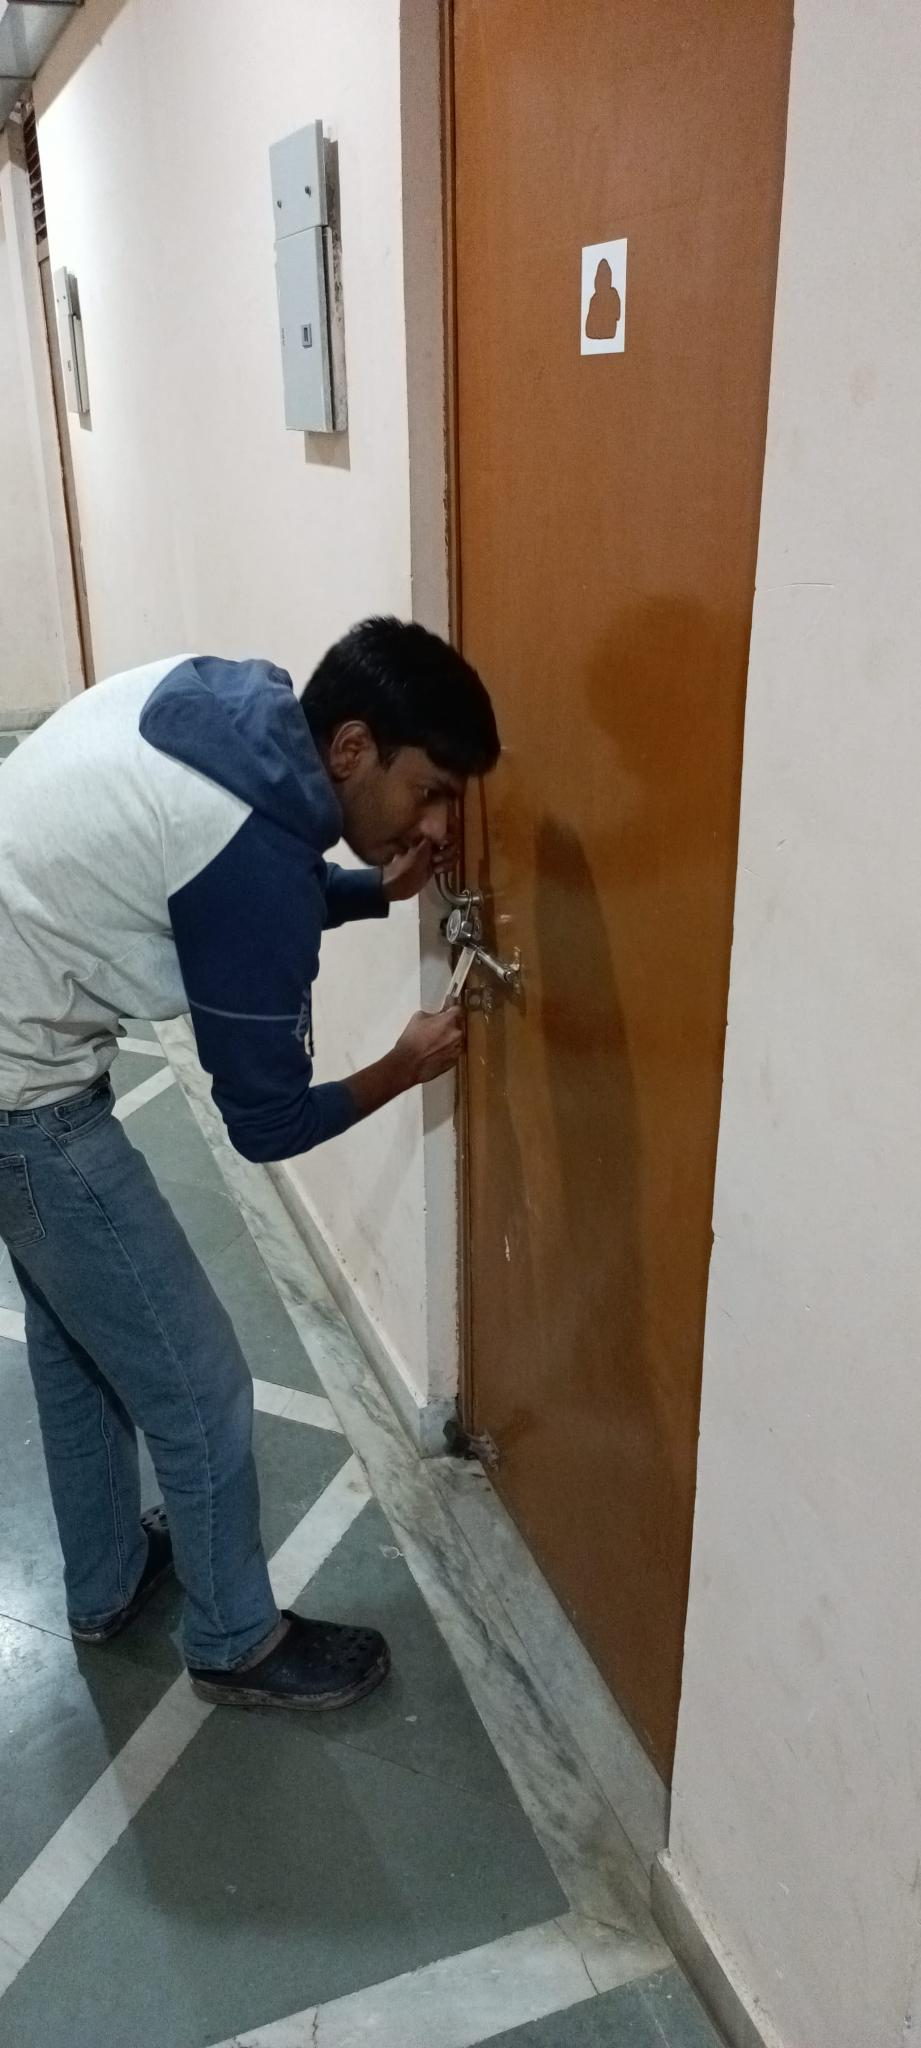suspicion: (0, 508, 649, 1792)
